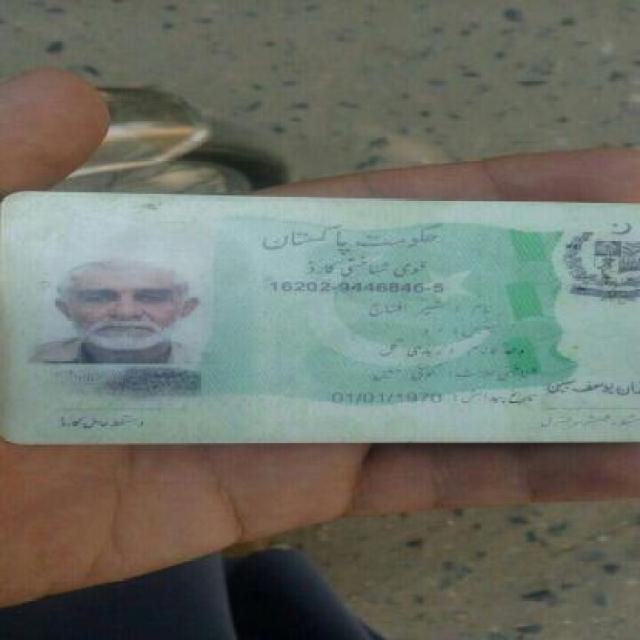Front: (3, 175, 639, 448)
